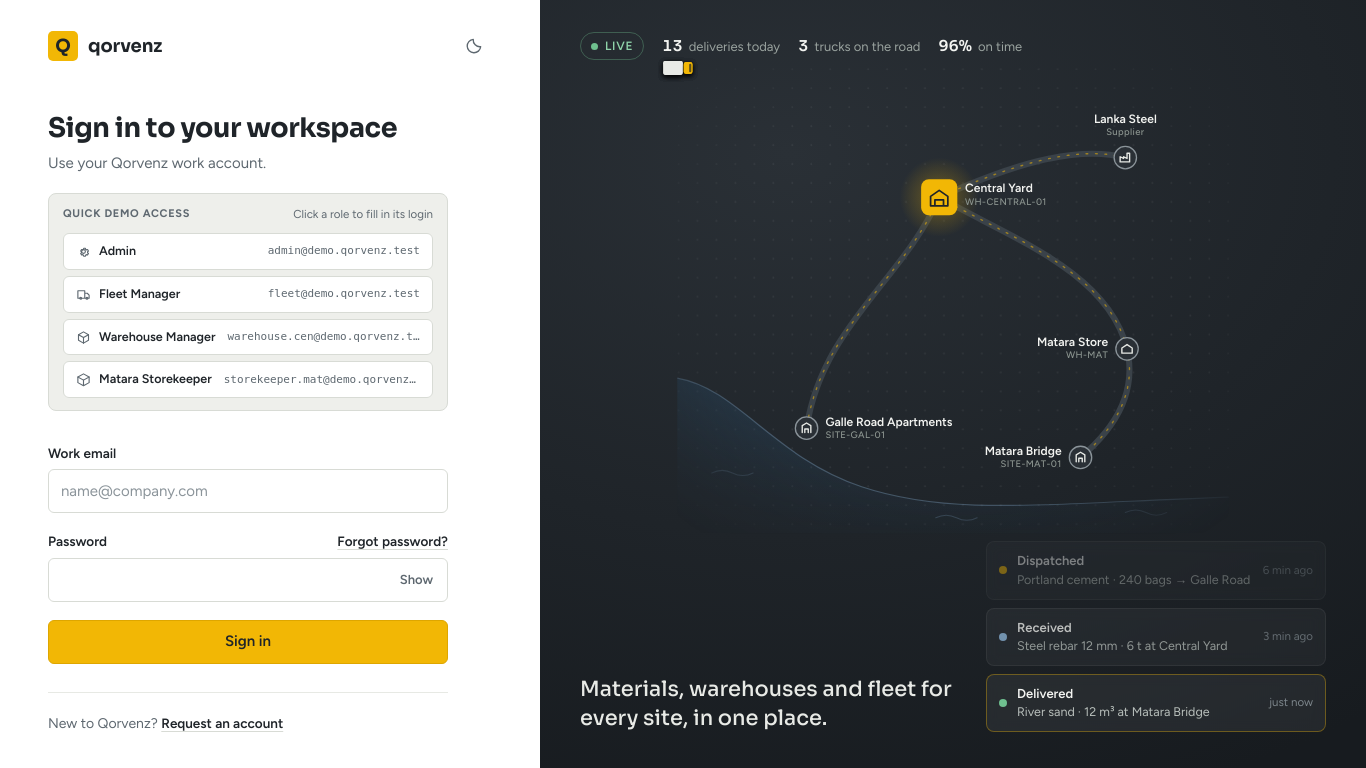
Test: request an account › validates before sending anything
Expected: the heading "Sign in to your workspace" is shown, [48,112,448,144]
Click the button "Request an account" at x=222, y=723, box [161,713,283,733]
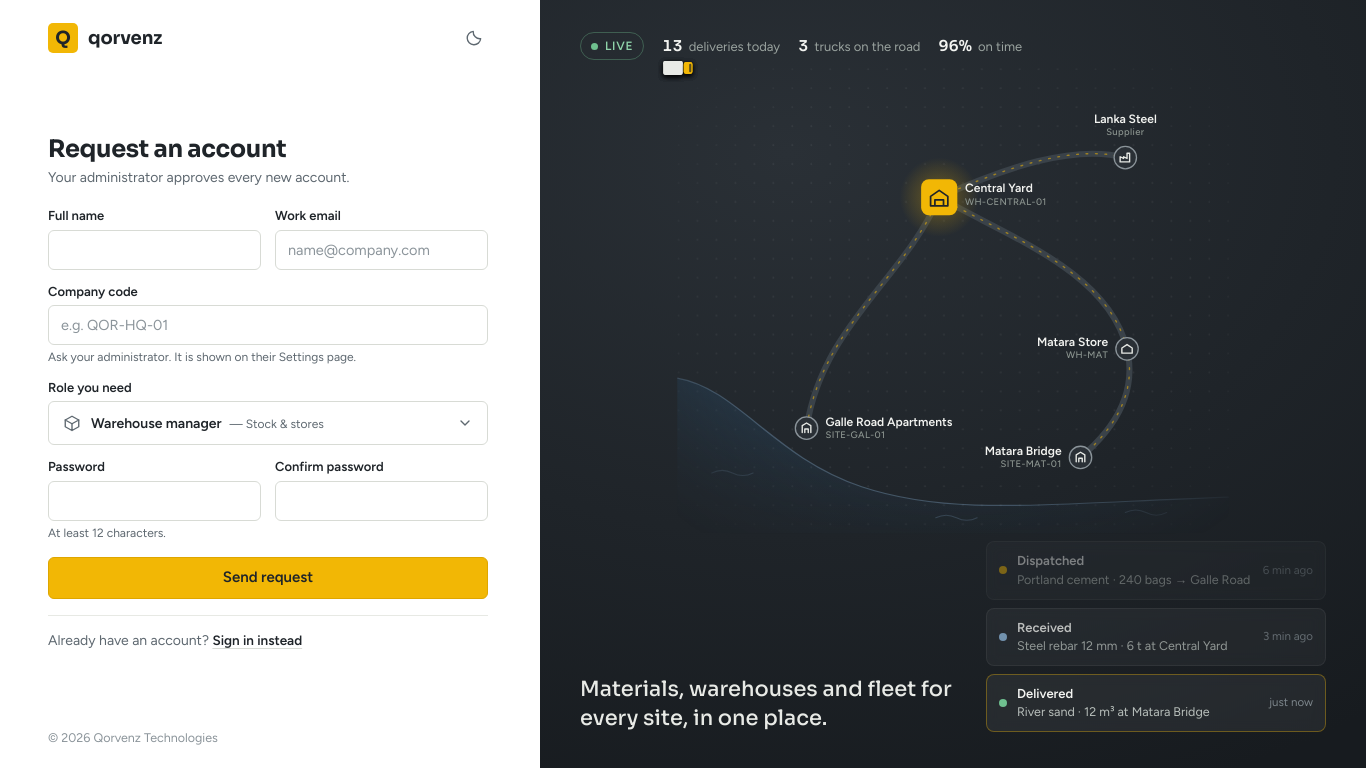
Expected: the heading "Request an account" is shown, [48,134,286,164]
Type "New Person" into the field labelled "Full name" at x=154, y=250, box [48,230,261,270]
Type "new@example.com" into the field labelled "Work email" at x=382, y=250, box [275,230,488,270]
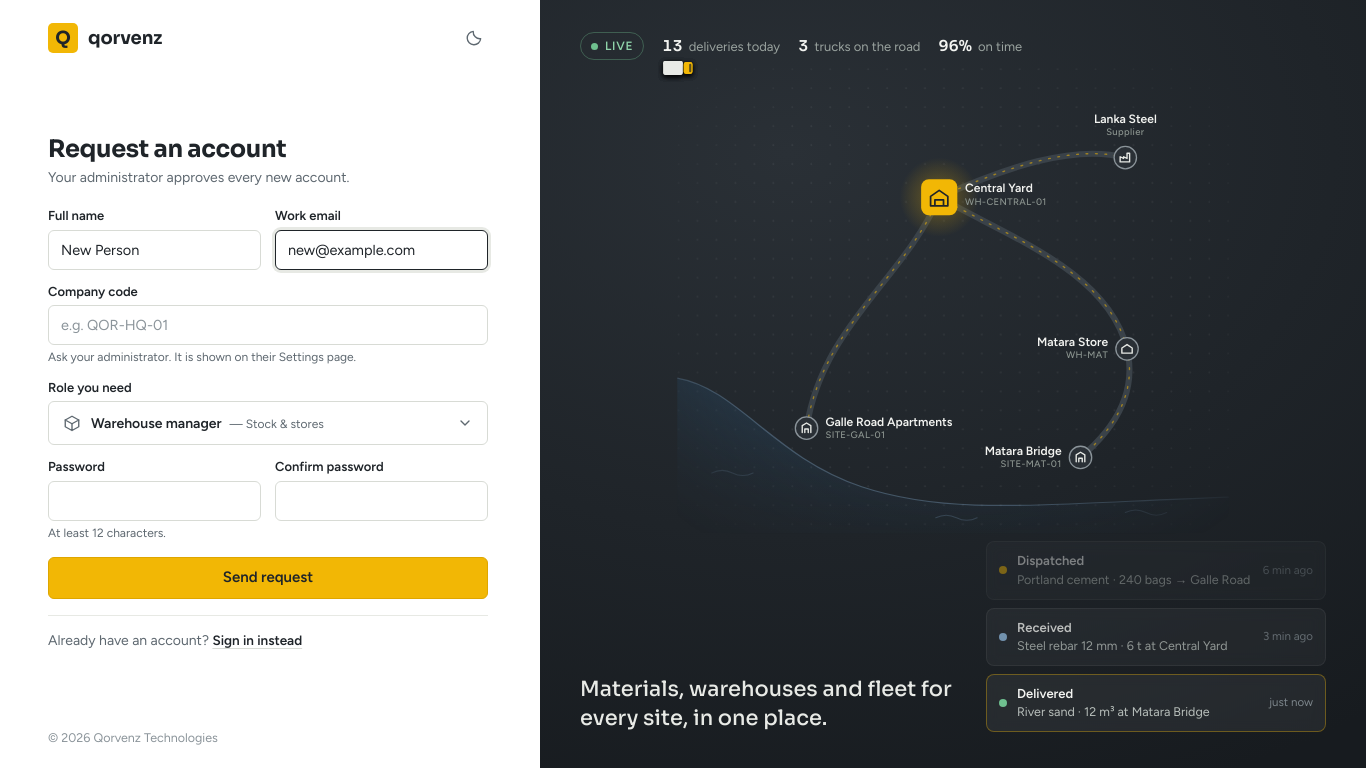
Type "QOR-HQ-01" into the field labelled "Company code" at x=268, y=325, box [48,305,488,345]
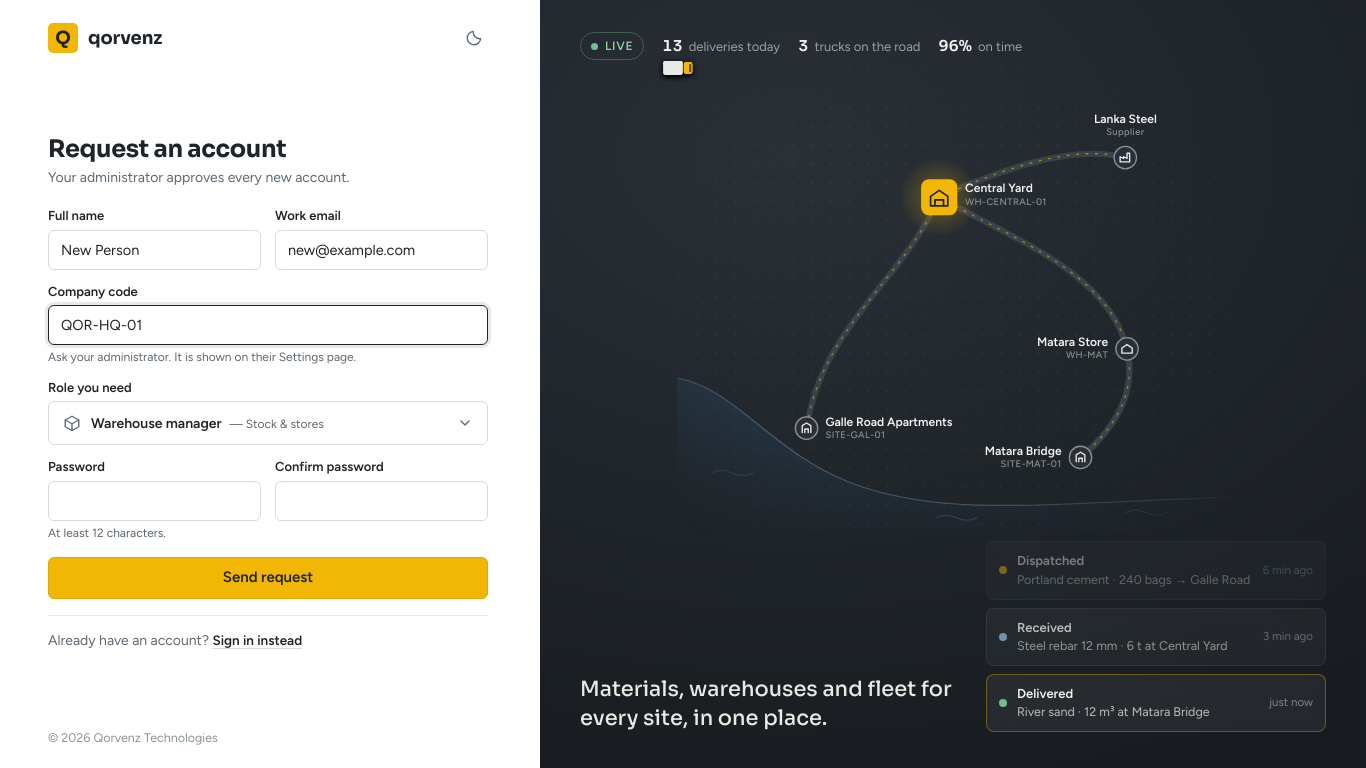
Type "long-enough-password" into the password field labelled "Password" at x=154, y=500, box [48,480,261,520]
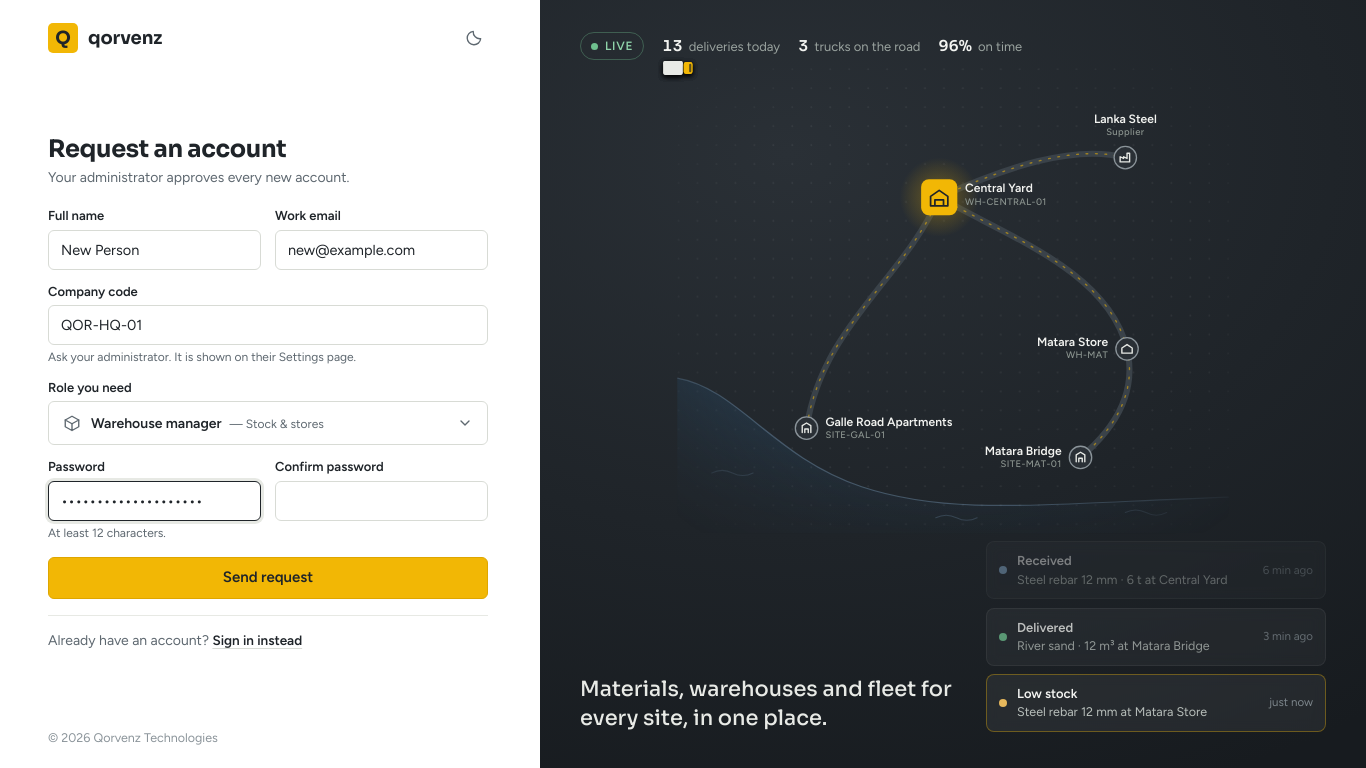
Type "different-password" into the password field labelled "Confirm password" at x=382, y=500, box [275,480,488,520]
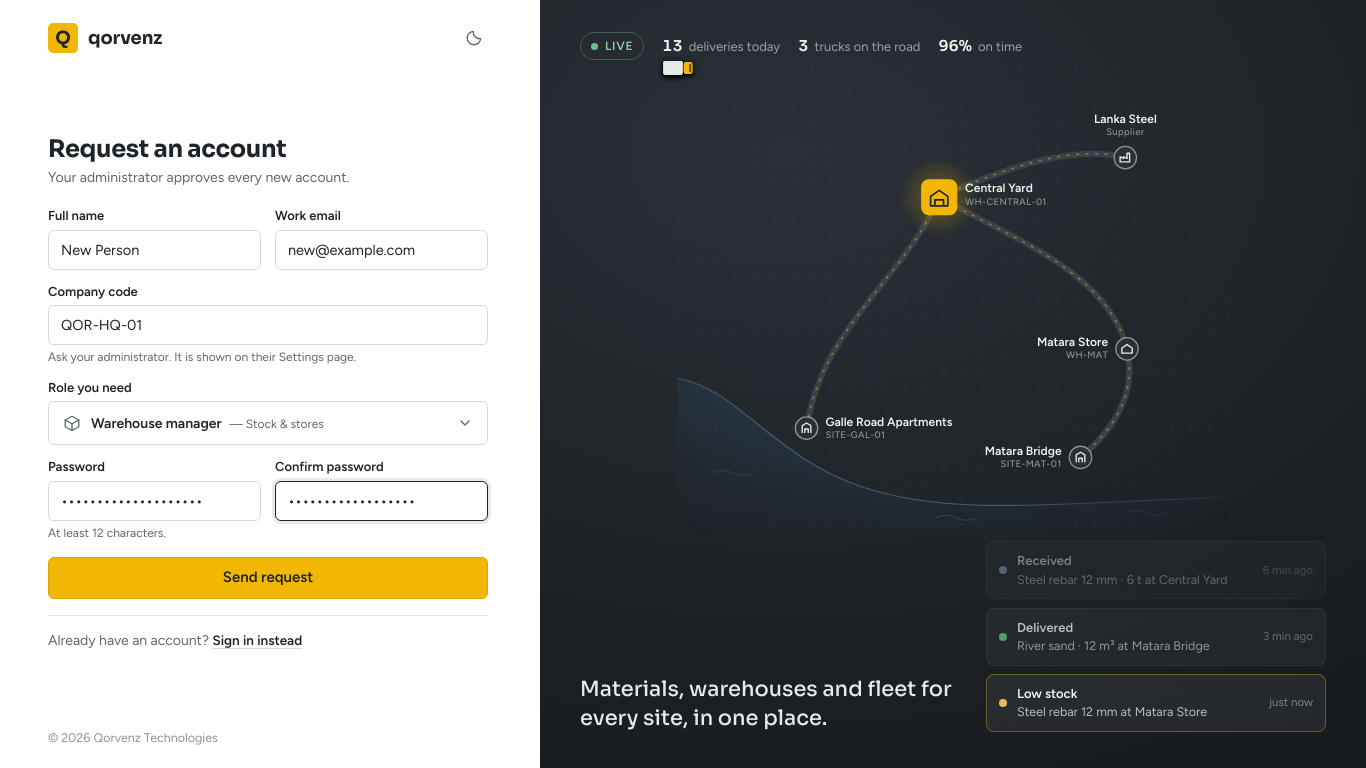
Submit the form named "Send request", box [48,206,488,599]
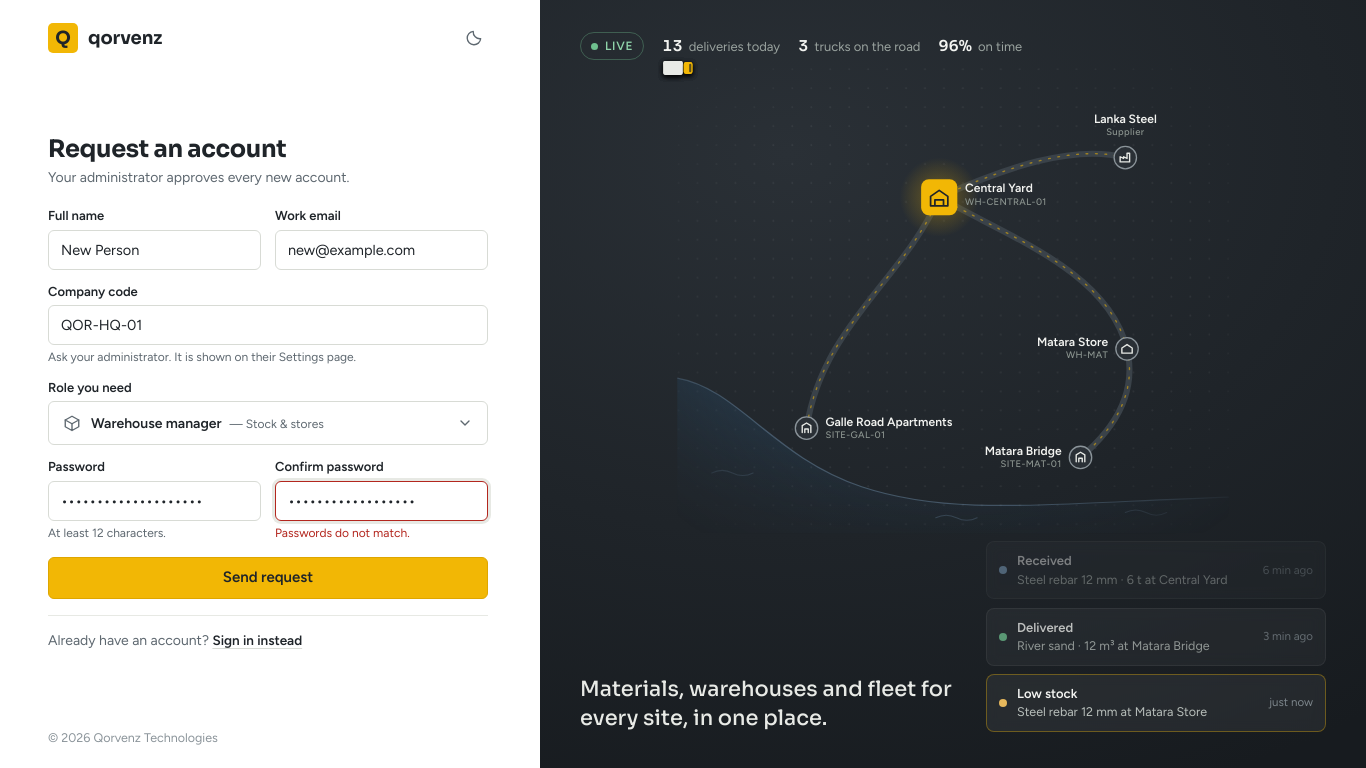
Expected: the text "Passwords do not match." is shown, [275,526,410,540]
